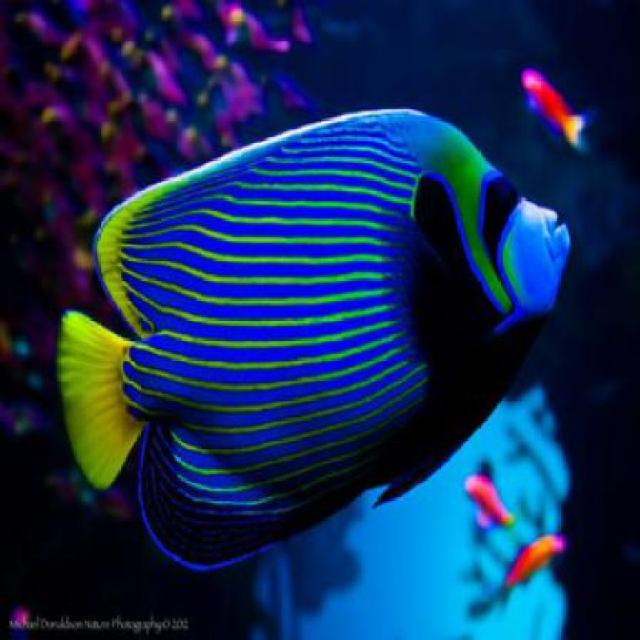AngelFish: (55, 112, 571, 573)
